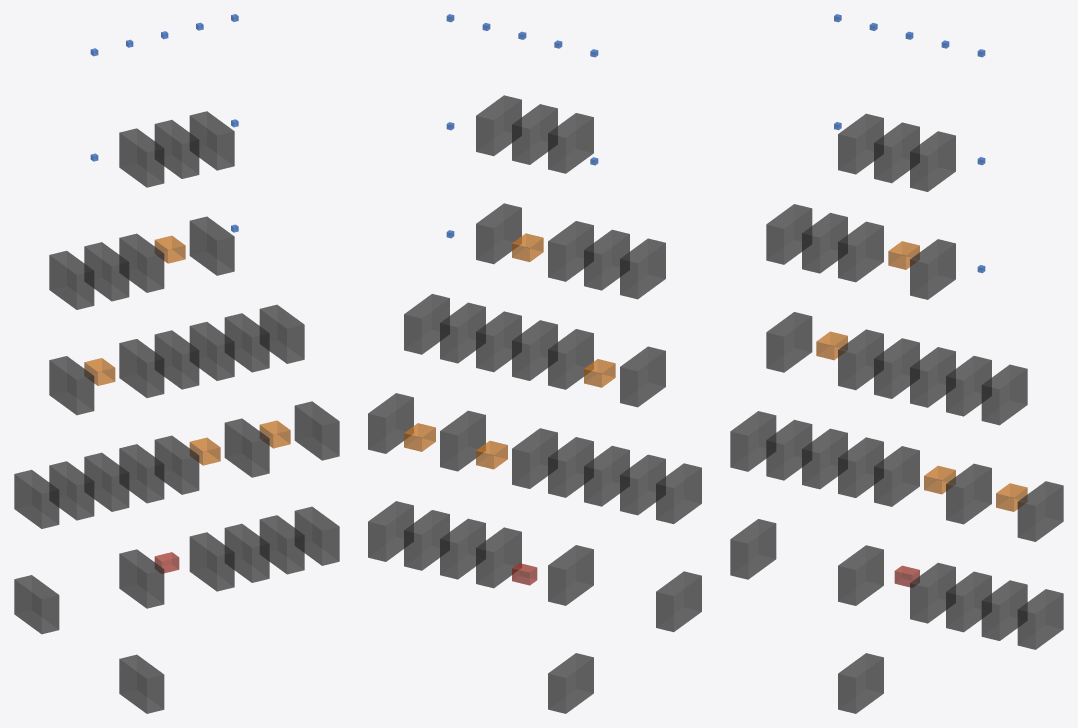
File: narkomfin_variant_02.obj
3 renders of one model, left to right at view 1: azimuth 30°, elevation 25°; view 2: azimuth 150°, elevation 25°; view 3: azimuth 330°, elevation 25°, orthographic. The views are drawn at different scales.
Visible parts, largest first — view 1: n1, n2, n13, n19, n17, n20, n22, n32, n7, n24, n6, n9 (+19 smaller); view 2: n13, n6, n17, n20, n7, n19, n24, n16, n1, n5, n25, n32 (+19 smaller); view 3: n34, n33, n13, n19, n32, n20, n11, n16, n17, n1, n18, n7 (+19 smaller).
Boxes of the visible parts, x1,y1,x2,y2 form: n1: (224, 418, 269, 477); n2: (189, 532, 234, 591); n13: (49, 356, 94, 415); n19: (14, 575, 59, 634); n17: (49, 250, 94, 309); n20: (14, 469, 59, 528); n22: (189, 216, 234, 275); n32: (294, 401, 339, 460); n7: (119, 549, 164, 608); n24: (119, 128, 164, 187); n6: (119, 654, 164, 713); n9: (119, 339, 164, 397); n13: (620, 346, 665, 407); n6: (548, 653, 593, 713); n17: (620, 238, 665, 299); n20: (656, 463, 701, 524); n7: (548, 545, 593, 605); n19: (656, 571, 701, 632); n24: (548, 113, 593, 173); n16: (620, 454, 665, 515); n1: (440, 410, 485, 471); n5: (440, 302, 485, 363); n25: (476, 95, 521, 156); n32: (368, 393, 413, 453); n34: (1017, 589, 1063, 649); n33: (981, 364, 1027, 425); n13: (766, 312, 812, 372); n19: (730, 519, 776, 579); n32: (1017, 481, 1063, 541); n20: (730, 411, 776, 471); n11: (981, 580, 1027, 640); n16: (766, 419, 812, 480); n17: (766, 204, 812, 264); n1: (946, 463, 991, 524); n18: (838, 221, 883, 282); n7: (838, 545, 883, 605).
Bounding box in the file's own units: 62.22 × 130 × 9.9.
